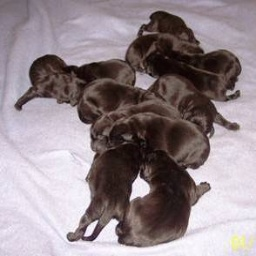dog: (18, 10, 247, 245)
